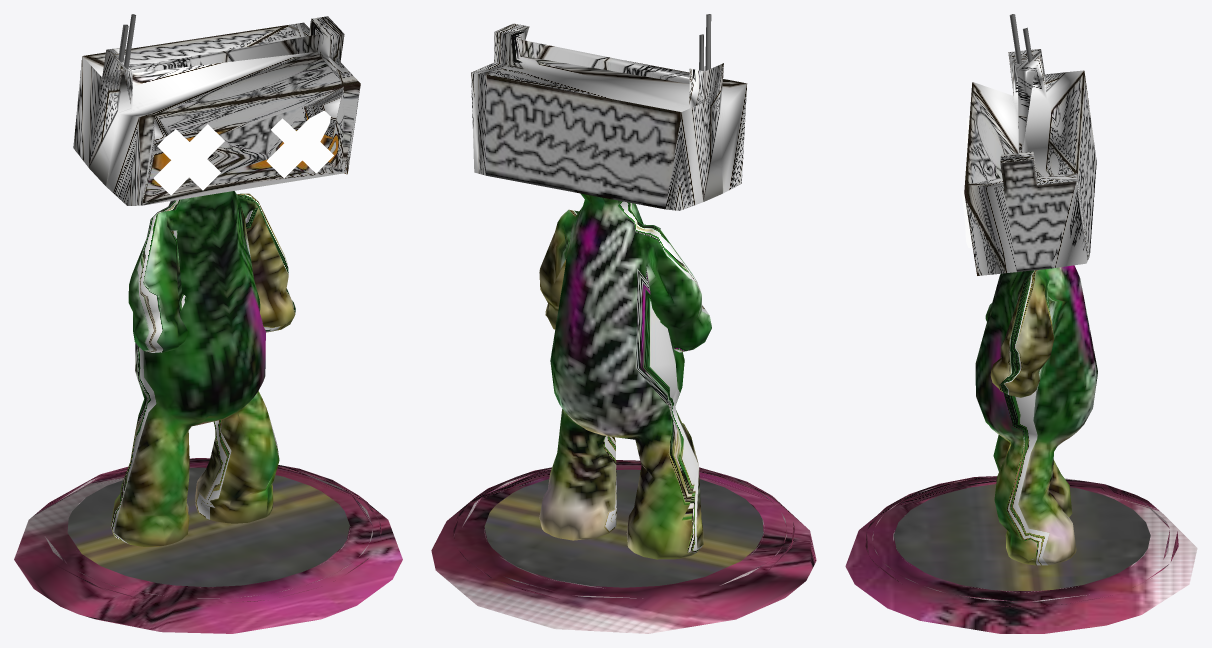
The picture shows the model from 3 angles, left to right: view 1: azimuth 30°, elevation 25°; view 2: azimuth 150°, elevation 25°; view 3: azimuth 270°, elevation 25°; orthographic projection. The views are drawn at different scales.
Bounding box in the file's own units: 1.44 × 2.3 × 1.44.
6 materials, 4 textured.
